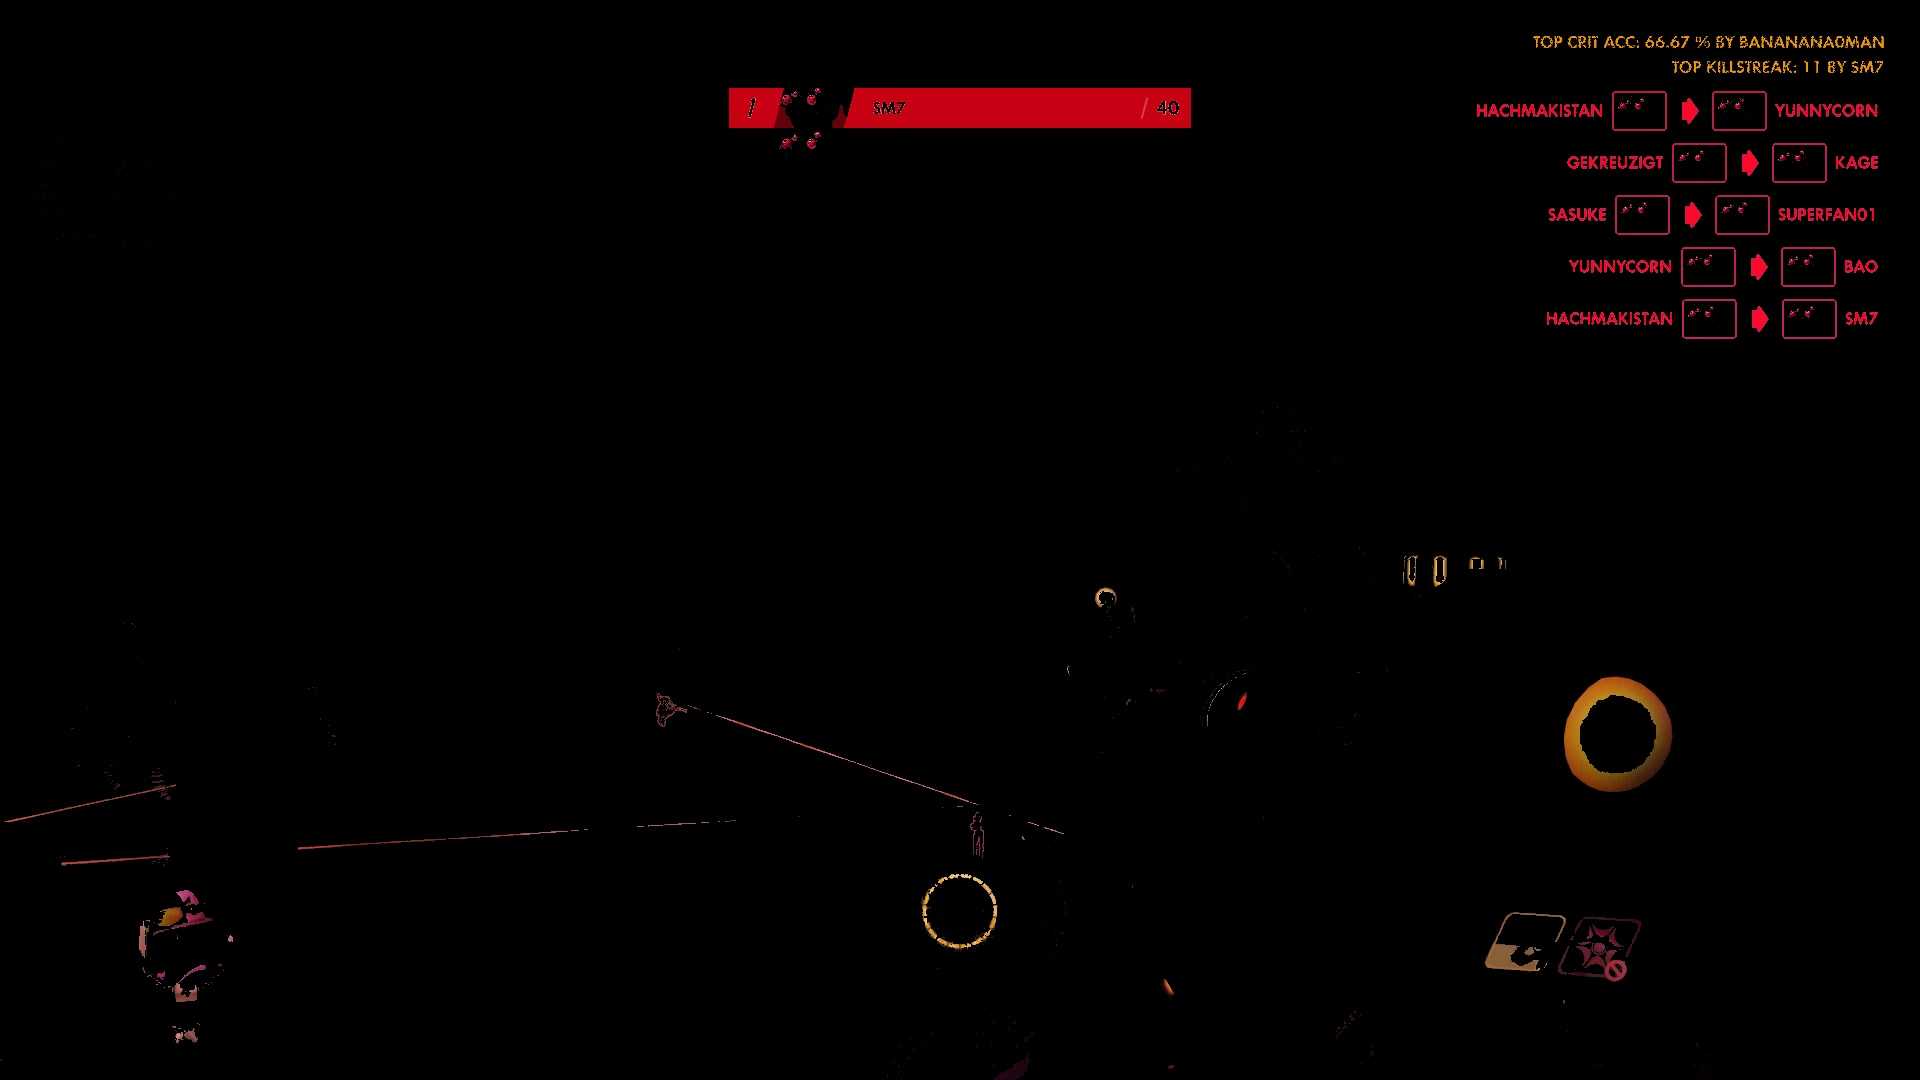widowmaker: (965, 810, 992, 860), (651, 691, 682, 729)
